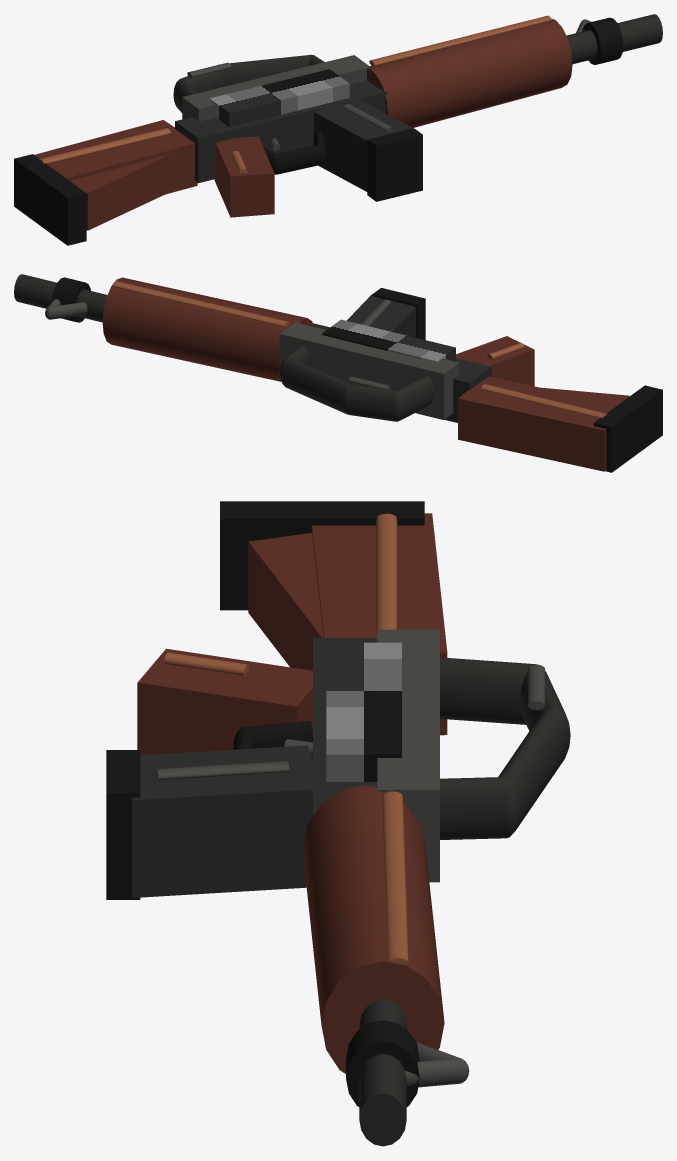
File: CMU3DWorldAU14WeaponRifleAR10Cloud.glb
The picture shows the model from 3 angles, top to bottom: view 1: azimuth 30°, elevation 25°; view 2: azimuth 150°, elevation 25°; view 3: azimuth 270°, elevation 25°; orthographic projection. The views are drawn at different scales.
Visible parts, largest first — view 1: rounded handguard, receiver lower solid, tapered shoulder stock upper, rubber butt pad, source receiver face, sloping stock lower cheek, magazine shell, slanted pistol grip, magazine base shoe, upper receiver ridge, exterior barrel, carry handle open frame member 3 (+7 smaller); view 2: rounded handguard, tapered shoulder stock upper, upper receiver ridge, rubber butt pad, source receiver face, slanted pistol grip, carry handle open frame member 3, exterior barrel, magazine shell, carry handle open frame member 2, handguard upper ridge, receiver lower solid (+6 smaller); view 3: rounded handguard, magazine shell, slanted pistol grip, tapered shoulder stock upper, source receiver face, upper receiver ridge, rubber butt pad, sloping stock lower cheek, carry handle open frame member 1, exterior barrel, magazine base shoe, carry handle open frame member 4 (+9 smaller).
Boxes of the visible parts, box(x1,y1,x2,y2) form: rounded handguard: box(367, 19, 572, 127); receiver lower solid: box(175, 80, 387, 183); tapered shoulder stock upper: box(34, 120, 197, 194); rubber butt pad: box(14, 154, 86, 245); source receiver face: box(209, 69, 349, 127); sloping stock lower cheek: box(70, 153, 173, 230); magazine shell: box(314, 99, 418, 191); slanted pistol grip: box(214, 136, 274, 217); magazine base shoe: box(367, 128, 422, 201); upper receiver ridge: box(182, 55, 370, 121); exterior barrel: box(567, 14, 662, 63); carry handle open frame member 3: box(224, 55, 311, 86); rounded handguard: box(102, 277, 312, 381); tapered shoulder stock upper: box(458, 376, 617, 471); upper receiver ridge: box(279, 322, 459, 419); rubber butt pad: box(593, 385, 662, 472); source receiver face: box(322, 319, 455, 362); slanted pistol grip: box(456, 336, 534, 386); carry handle open frame member 3: box(282, 357, 351, 414); exterior barrel: box(14, 274, 107, 322); magazine shell: box(346, 294, 415, 337); carry handle open frame member 2: box(347, 384, 396, 421); handguard upper ridge: box(112, 281, 289, 327); receiver lower solid: box(310, 323, 491, 422); rounded handguard: box(302, 785, 444, 1073); magazine shell: box(131, 745, 312, 897); slanted pistol grip: box(137, 648, 312, 760); tapered shoulder stock upper: box(312, 513, 447, 735); source receiver face: box(326, 642, 401, 781); upper receiver ridge: box(377, 629, 439, 882); rubber butt pad: box(220, 501, 424, 610); sloping stock lower cheek: box(248, 533, 323, 670); carry handle open frame member 1: box(440, 657, 535, 724); exterior barrel: box(359, 999, 406, 1146); magazine base shoe: box(106, 750, 140, 899); carry handle open frame member 4: box(440, 777, 505, 839).
Bounding box in the file's own units: 1.15 × 0.119 × 0.3828.
6 materials, 1 textured.
